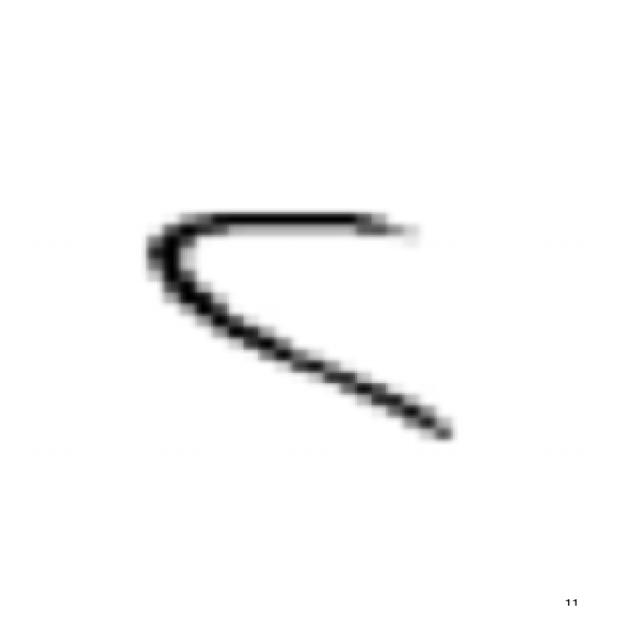2 -two-: (121, 194, 479, 452)
